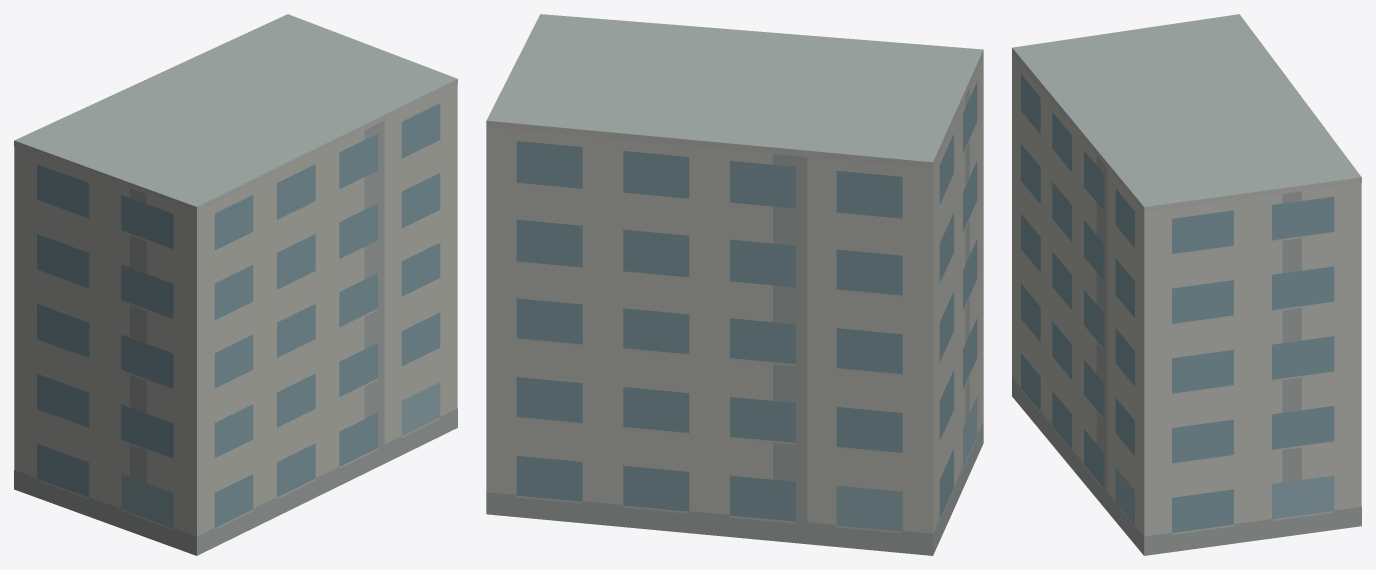
The model's file is survey-upis-33023914.glb.
3 renders of one model, left to right at view 1: azimuth 30°, elevation 25°; view 2: azimuth 150°, elevation 25°; view 3: azimuth 270°, elevation 25°, orthographic. The views are drawn at different scales.
Parts seen in each view (by area): view 1: survey-upis-33023914.tmp; view 2: survey-upis-33023914.tmp; view 3: survey-upis-33023914.tmp.
Part boxes in pixels (x1=…): survey-upis-33023914.tmp: x1=14, y1=14, x2=457, y2=555; survey-upis-33023914.tmp: x1=486, y1=14, x2=983, y2=555; survey-upis-33023914.tmp: x1=1012, y1=14, x2=1361, y2=555.
Size of the model in its own units: 17.58 by 14.8 by 13.46.
